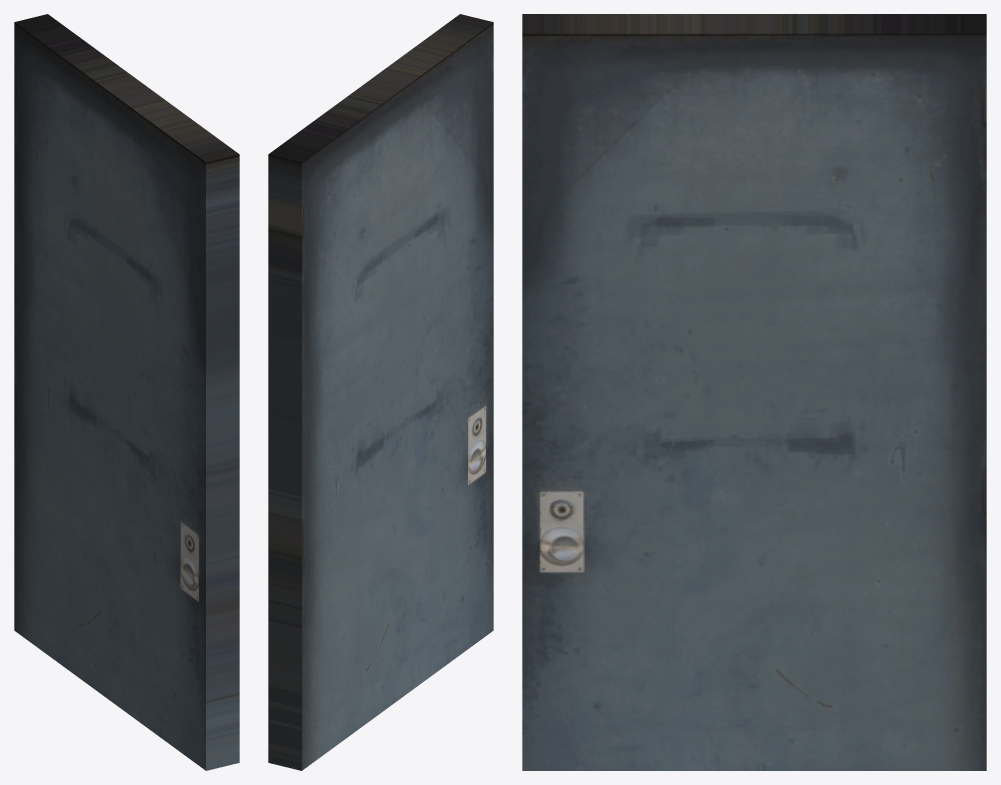
The model's file is Door (1).fbx.
3 views of the same model, side by side, from view 1: azimuth 30°, elevation 25°; view 2: azimuth 150°, elevation 25°; view 3: azimuth 270°, elevation 25° (orthographic). The views are drawn at different scales.
Parts seen in each view (by area): view 1: Door (1); view 2: Door (1); view 3: Door (1).
Boxes of the visible parts, x1=… form: Door (1): x1=14, y1=14, x2=239, y2=770; Door (1): x1=268, y1=14, x2=493, y2=770; Door (1): x1=522, y1=14, x2=986, y2=770.
Size of the model in its own units: 0.1664 by 2.89 by 1.65.
1 material, 1 textured.
